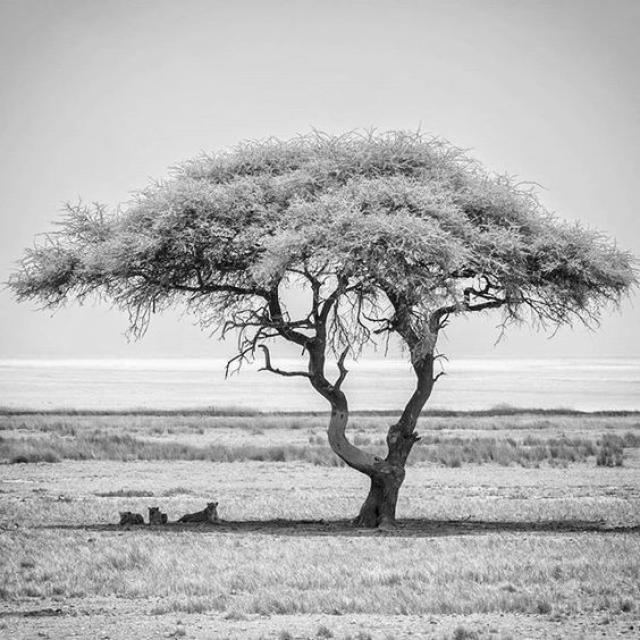Acacia: (26, 112, 624, 508)
